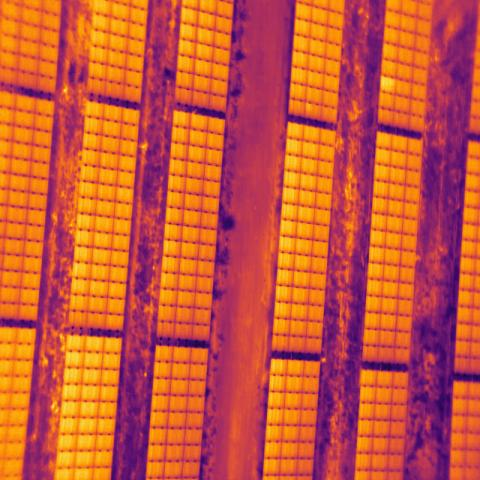fault: (379, 75, 397, 95)
